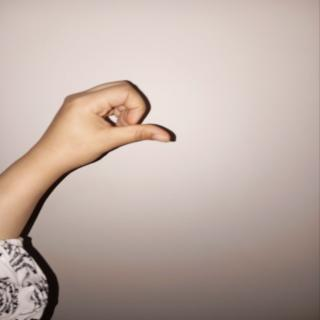WAW: (26, 75, 190, 189)
